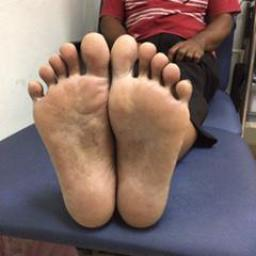Plantar View -Both Feet-: (19, 24, 196, 234)
